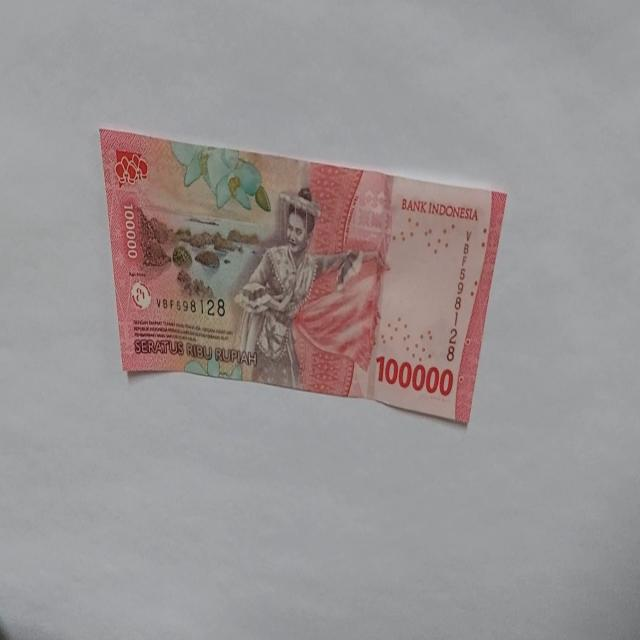seratus ribu rupiah: (98, 126, 508, 428), (230, 185, 380, 393)
